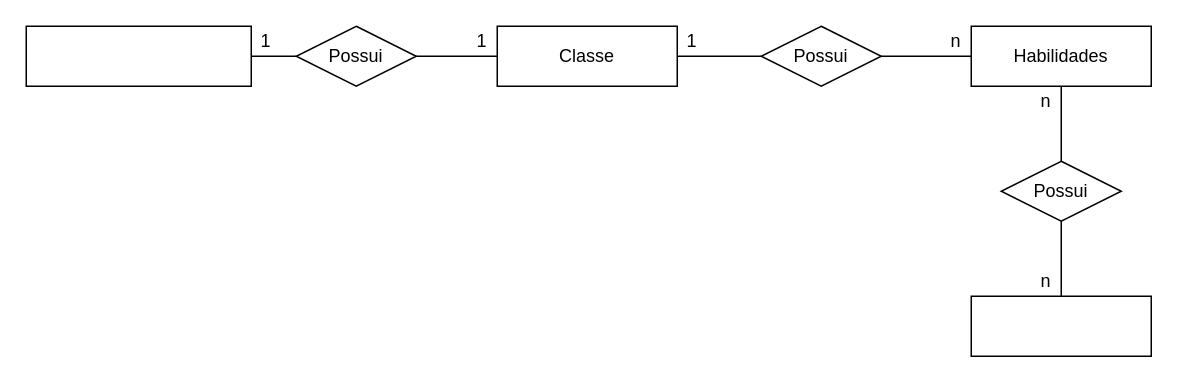
Some shapes in this 1178 by 383 pixel diagram are drawn without their labels. Each missing label, with the centre of its shape:
"Personagem" belongs at (x=138, y=55).
"TipodeHabilidade" belongs at (x=1060, y=325).
